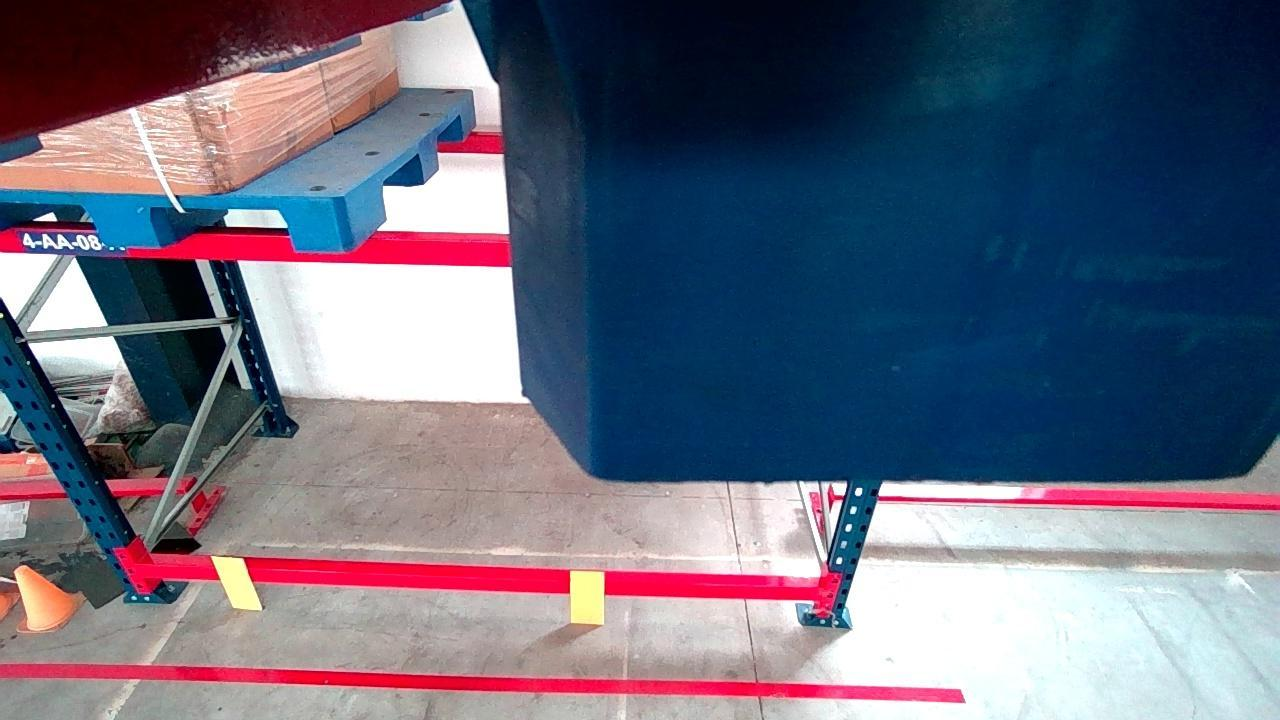h_rack: (139, 565, 816, 600), (0, 231, 507, 266)
orange_strip: (211, 554, 262, 607), (570, 570, 603, 623)
red_line: (0, 665, 965, 702)
small_pallet: (0, 189, 344, 252)
